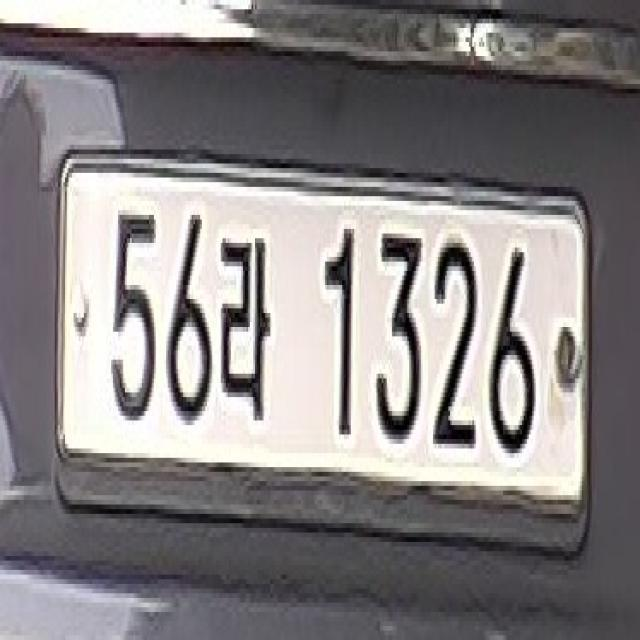plat: (52, 145, 592, 554)
